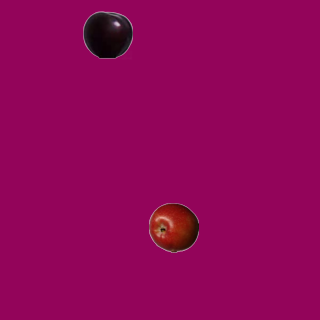Apple Braeburn: (148, 202, 198, 252)
Cherry Wax Black: (82, 9, 132, 59)
